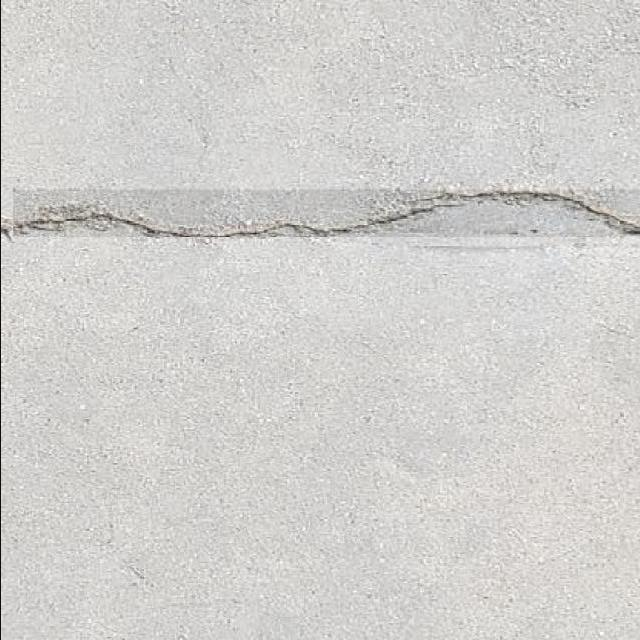crack: (1, 187, 639, 244)
